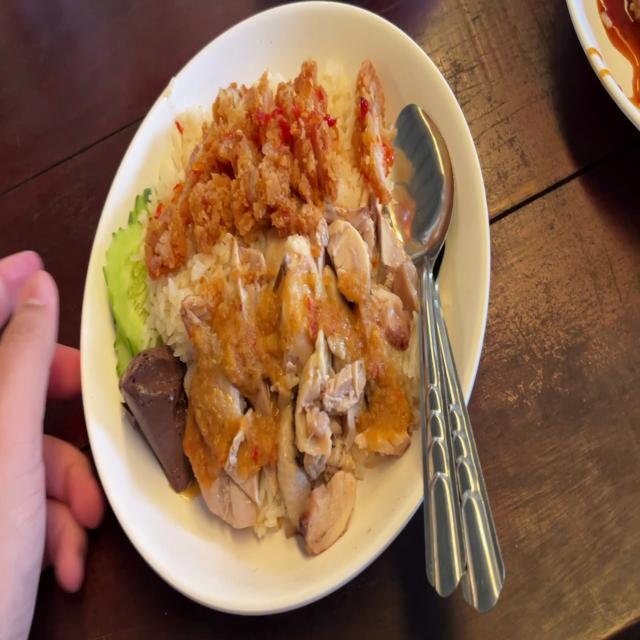boiled_chicken: (188, 250, 408, 512)
boiled_chicken_blood_jelly: (113, 345, 188, 486)
chicken_rice: (100, 58, 419, 553)
cucumber: (104, 188, 155, 358)
fried_chicken: (153, 80, 328, 224), (346, 48, 397, 199)
